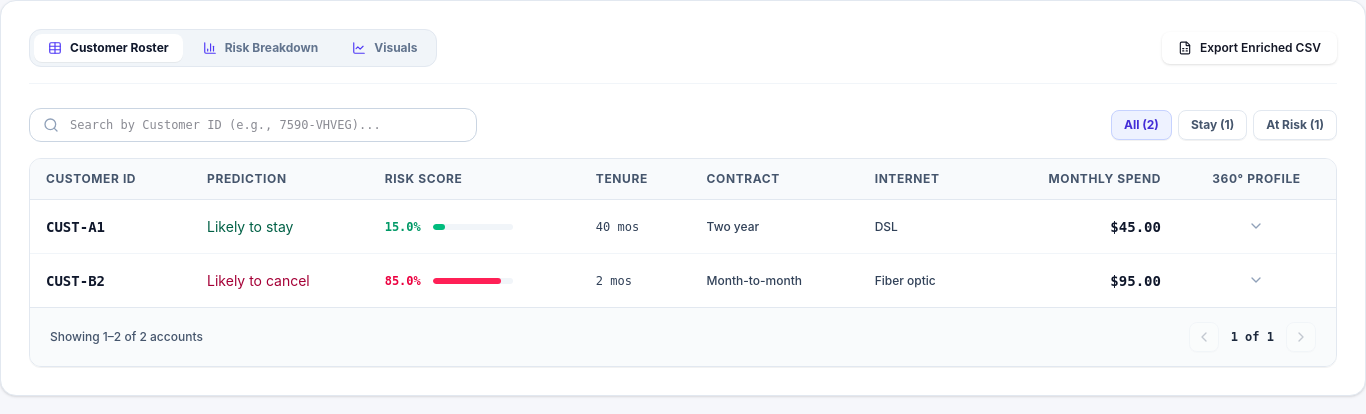
Scenario: ResultsTable Component › renders records and allows search filtering by Customer ID
Expected: the text "CUST-A1" is shown, [30,200,191,254]
Expected: the text "CUST-B2" is shown, [30,254,191,307]
Type "B2" into the field with placeholder "Search by Customer ID (e.g., 7590-VHVEG)...".
click(253, 125); type("B2")  # box [29,108,477,142]
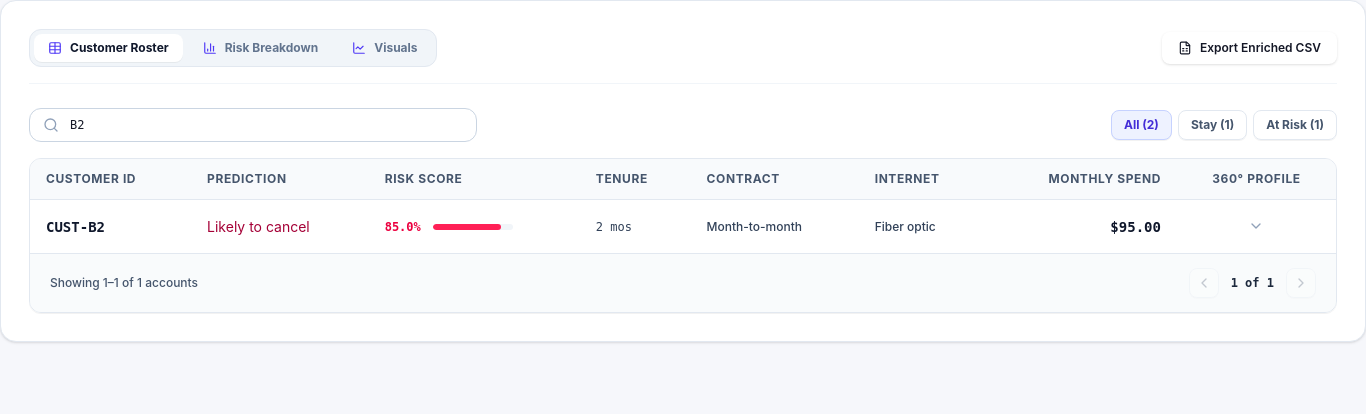
Expected: the text "CUST-B2" is shown, [30,200,191,253]
Now the text "CUST-A1" is gone
